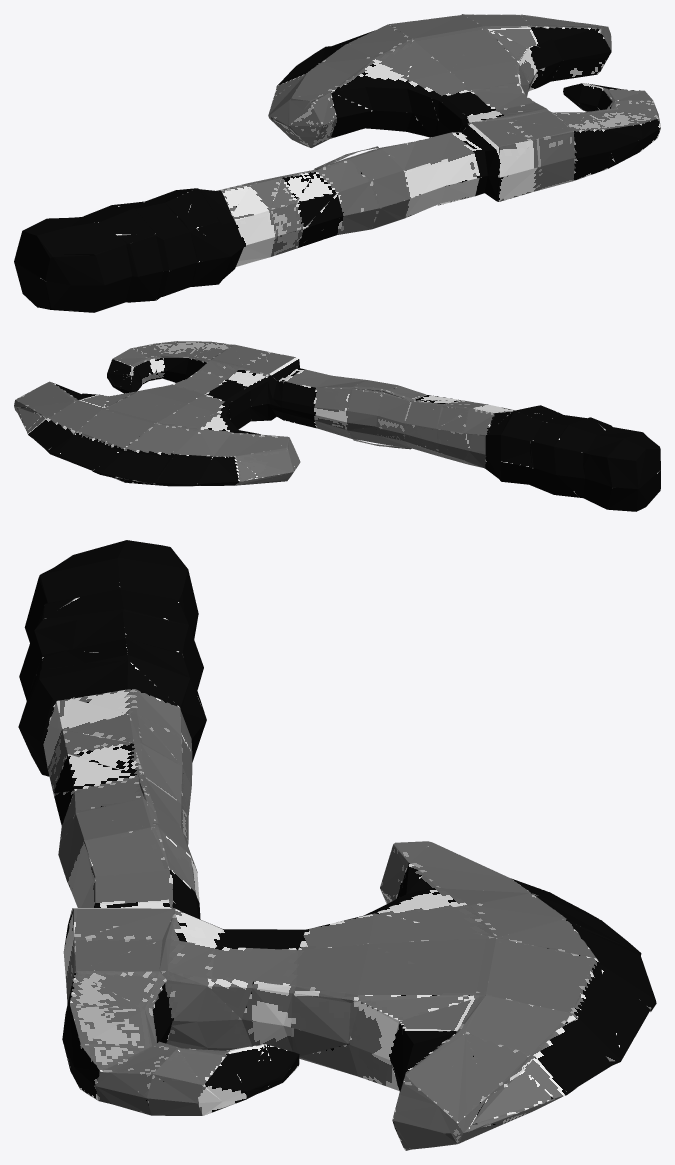
The picture shows the model from 3 angles, top to bottom: view 1: azimuth 30°, elevation 25°; view 2: azimuth 150°, elevation 25°; view 3: azimuth 270°, elevation 25°; orthographic projection. The views are drawn at different scales.
Parts seen in each view (by area): view 1: OBJ00b; view 2: OBJ00b; view 3: OBJ00b.
Boxes of the visible parts, <box> form: OBJ00b: <box>14,14,660,312</box>; OBJ00b: <box>14,341,660,511</box>; OBJ00b: <box>18,540,656,1150</box>.
Bounding box in the file's own units: 0.3698 × 0.0455 × 0.1844.
Materials: 1 (1 with a texture image).
